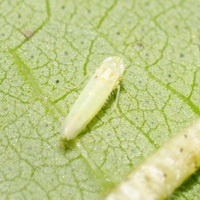insect: (62, 56, 123, 139)
